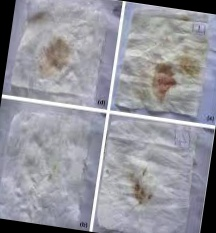blood: (149, 62, 177, 103), (131, 182, 150, 205)
